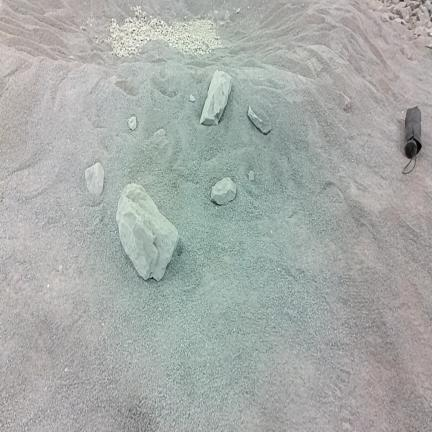Rock: (116, 184, 178, 280), (201, 70, 231, 125), (210, 177, 236, 205), (247, 106, 271, 134), (85, 163, 104, 195), (340, 92, 351, 112), (418, 6, 429, 26), (400, 7, 412, 21), (370, 0, 384, 11), (128, 116, 137, 130), (403, 45, 412, 59), (380, 12, 390, 22), (414, 27, 425, 36), (424, 0, 431, 12), (248, 170, 255, 181), (389, 14, 398, 20), (224, 11, 230, 20), (189, 95, 195, 102), (390, 0, 399, 4), (236, 8, 240, 13), (214, 10, 218, 15)
